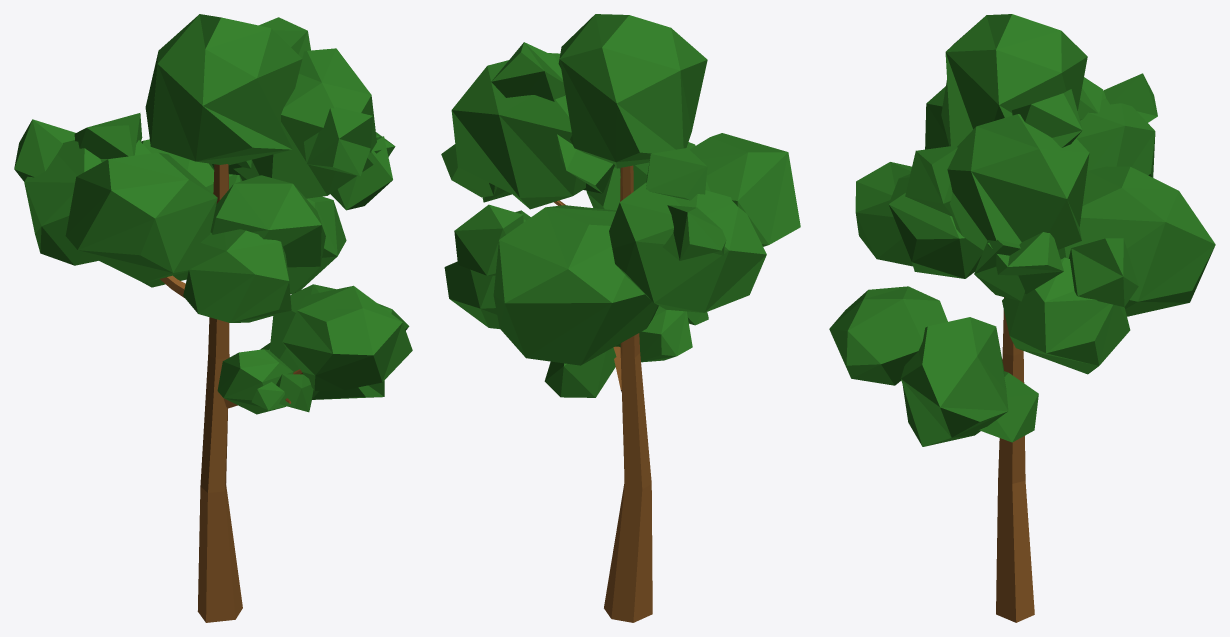
Rendered from Tree_01.FBX.
The picture shows the model from 3 angles, left to right: view 1: azimuth 30°, elevation 25°; view 2: azimuth 150°, elevation 25°; view 3: azimuth 270°, elevation 25°; orthographic projection.
Visible parts, largest first — view 1: Leaves_13, Leaves_03, Leaves_11, Leaves_07, Trunk, Leaves_02, Leaves_10, Leaves_09, Leaves_08, Leaves_12, Leaves_14, Leaves_06 (+2 smaller); view 2: Leaves_06, Leaves_13, Leaves_02, Leaves_03, Trunk, Leaves_11, Leaves_05, Leaves_14, Leaves_04, Leaves_08, Leaves_09; view 3: Leaves_03, Leaves_06, Leaves_13, Leaves_12, Leaves_14, Leaves_07, Trunk, Leaves_02, Leaves_09, Leaves_10, Leaves_05, Leaves_04 (+1 smaller).
Part boxes in pixels (box(x1,y1,x2,y2)): Leaves_13: box(145, 14, 302, 165); Leaves_03: box(209, 17, 395, 210); Leaves_11: box(65, 152, 217, 282); Leaves_07: box(282, 285, 412, 391); Trunk: box(160, 164, 303, 622); Leaves_02: box(14, 113, 151, 265); Leaves_10: box(183, 229, 291, 322); Leaves_09: box(210, 175, 325, 294); Leaves_08: box(217, 349, 293, 414); Leaves_12: box(269, 284, 409, 399); Leaves_14: box(295, 196, 346, 292); Leaves_06: box(141, 139, 242, 287); Leaves_06: box(493, 205, 658, 365); Leaves_13: box(558, 14, 707, 168); Leaves_02: box(609, 148, 766, 312); Leaves_03: box(441, 42, 614, 209); Trunk: box(554, 165, 652, 622); Leaves_11: box(689, 133, 800, 246); Leaves_05: box(454, 204, 523, 275); Leaves_14: box(444, 210, 530, 328); Leaves_04: box(544, 347, 616, 397); Leaves_08: box(639, 306, 692, 362); Leaves_09: box(586, 142, 695, 210); Leaves_03: box(905, 89, 1089, 301); Leaves_06: box(1058, 166, 1215, 316); Leaves_13: box(941, 14, 1087, 146); Leaves_12: box(900, 317, 1008, 446); Leaves_14: box(1002, 257, 1130, 374); Leaves_07: box(829, 286, 947, 385); Trunk: box(996, 297, 1034, 622); Leaves_02: box(1076, 73, 1157, 177); Leaves_09: box(888, 174, 983, 278); Leaves_10: box(855, 162, 912, 266); Leaves_05: box(1068, 238, 1138, 307); Leaves_04: box(979, 371, 1038, 442).
Size of the model in its own units: 30.86 by 53.32 by 31.27.
